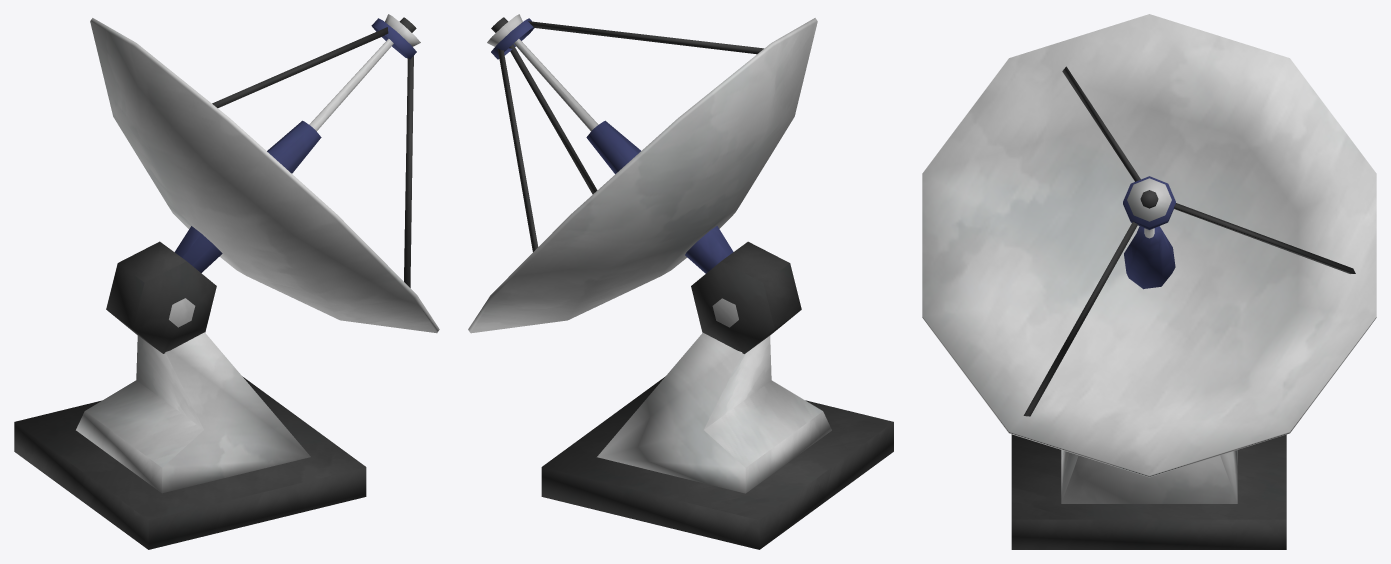
The model's file is Reciever.glb.
3 renders of one model, left to right at view 1: azimuth 30°, elevation 25°; view 2: azimuth 150°, elevation 25°; view 3: azimuth 270°, elevation 25°, orthographic. The views are drawn at different scales.
Parts seen in each view (by area): view 1: Reciever; view 2: Reciever; view 3: Reciever.
Part boxes in pixels (left/top/right/bottom): Reciever: left=14, top=14, right=439, bottom=549; Reciever: left=468, top=14, right=893, bottom=549; Reciever: left=922, top=14, right=1376, bottom=549.
Size of the model in its own units: 137 by 174 by 158.
Materials: 1 (1 with a texture image).
